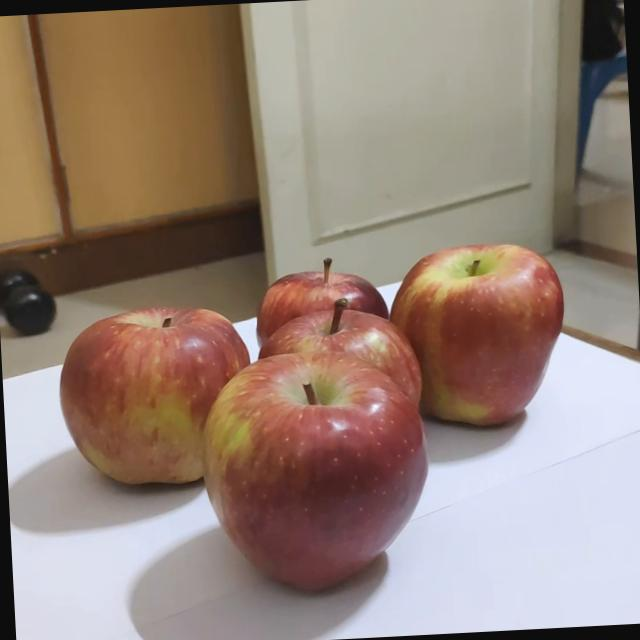apple: (226, 330, 478, 593), (68, 287, 273, 488), (405, 226, 594, 434), (272, 279, 454, 401), (265, 238, 412, 351)
